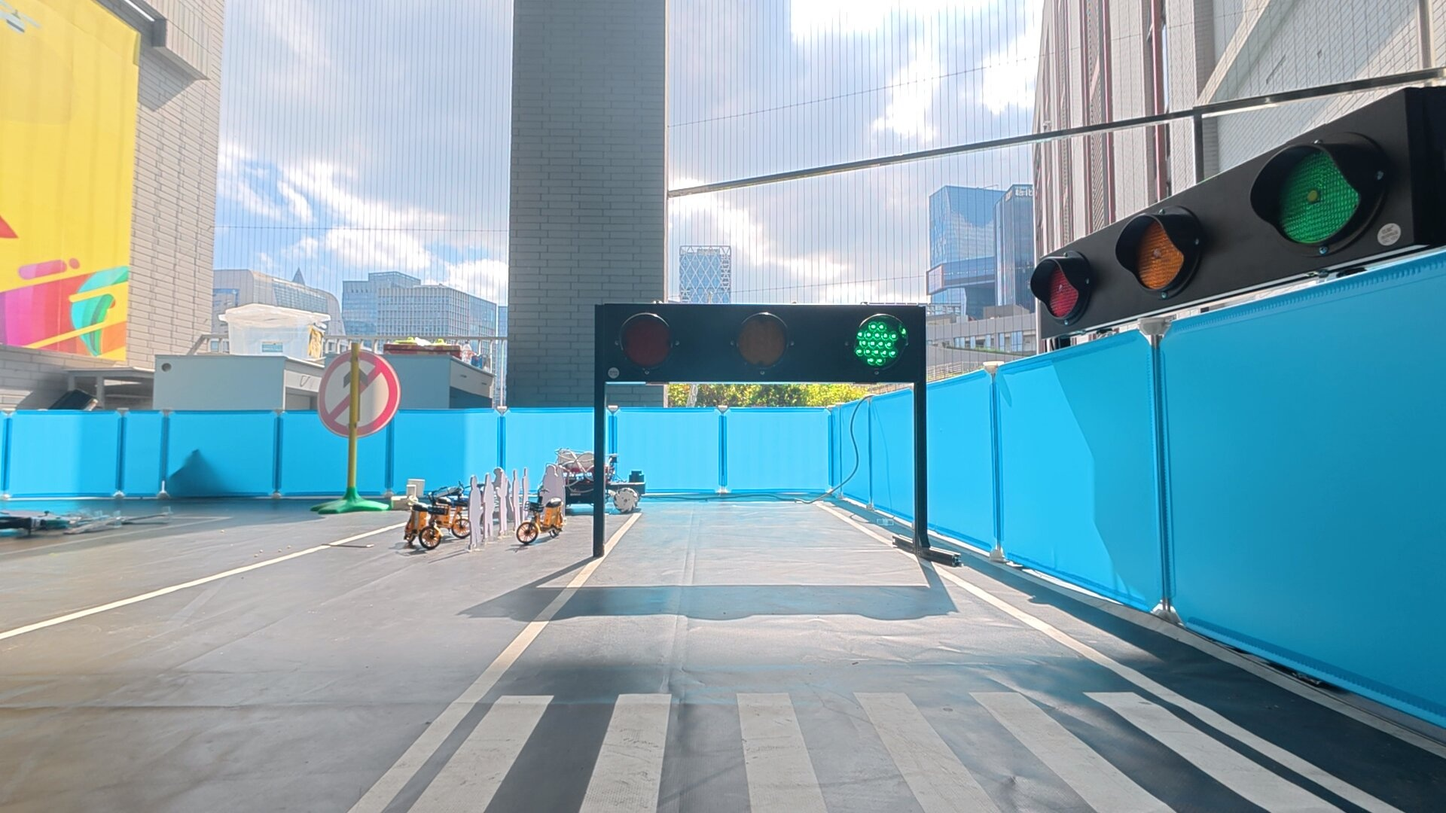go: (853, 314, 907, 373)
